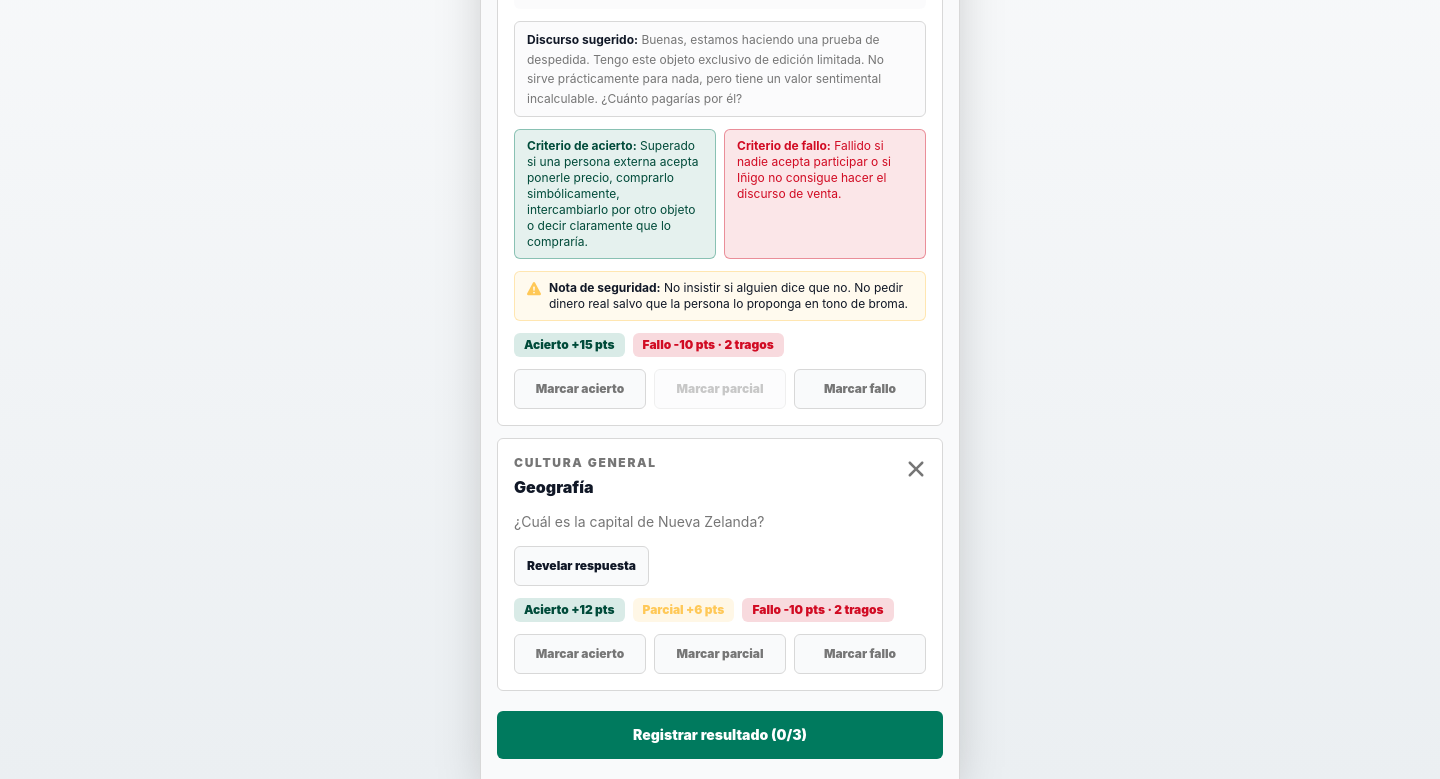
Test: MergerAttemptPage › loads a configured culture question and hides its answer until reveal
(page scrolled)
Expected: the text "¿Cuál es la capital de Nueva Zelanda?" is shown, [514,513,764,530]
Expected: the text "Wellington" is not shown
Click the button "Revelar respuesta": (582, 566) [514,546,649,586]
(page scrolled)
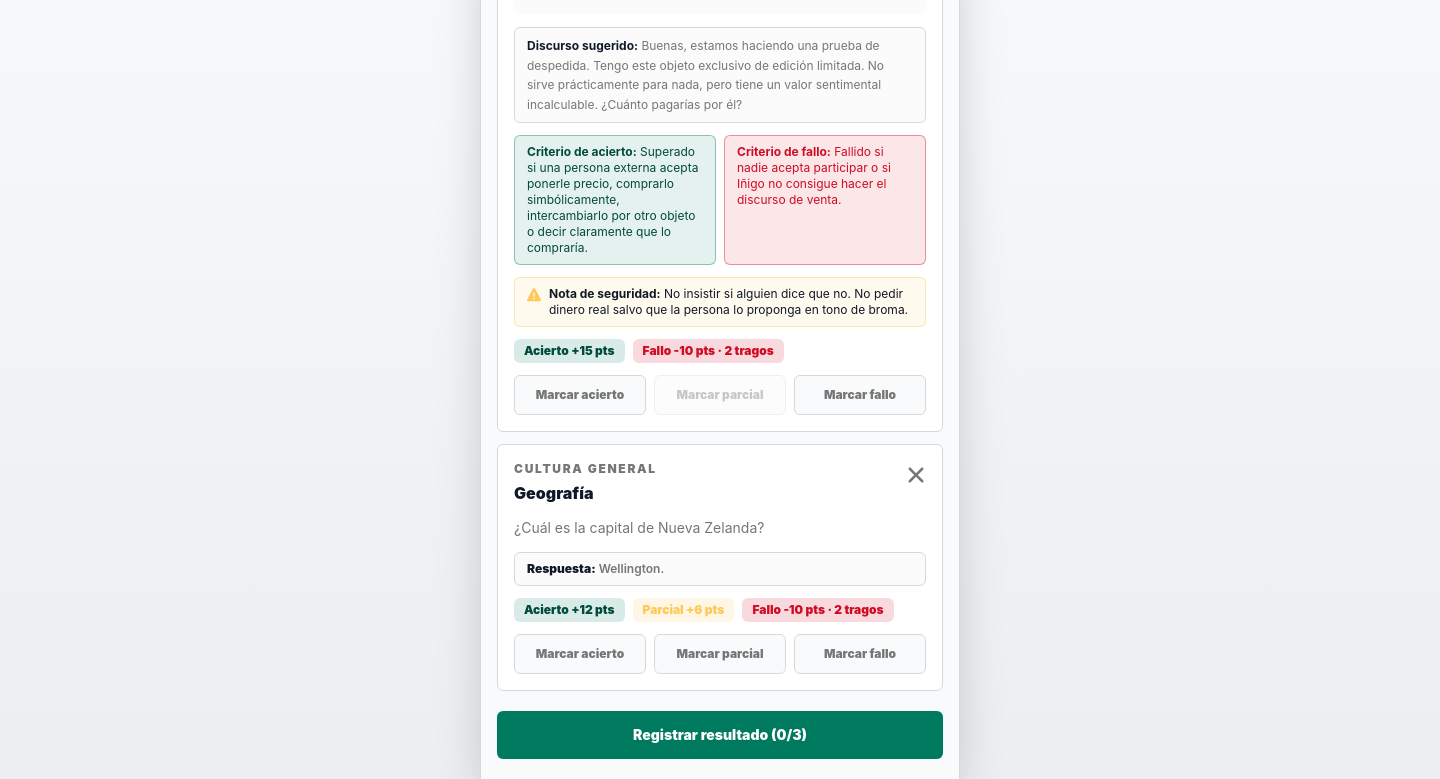
Result: the text "Respuesta: Wellington." is shown at [514,552,926,586]
